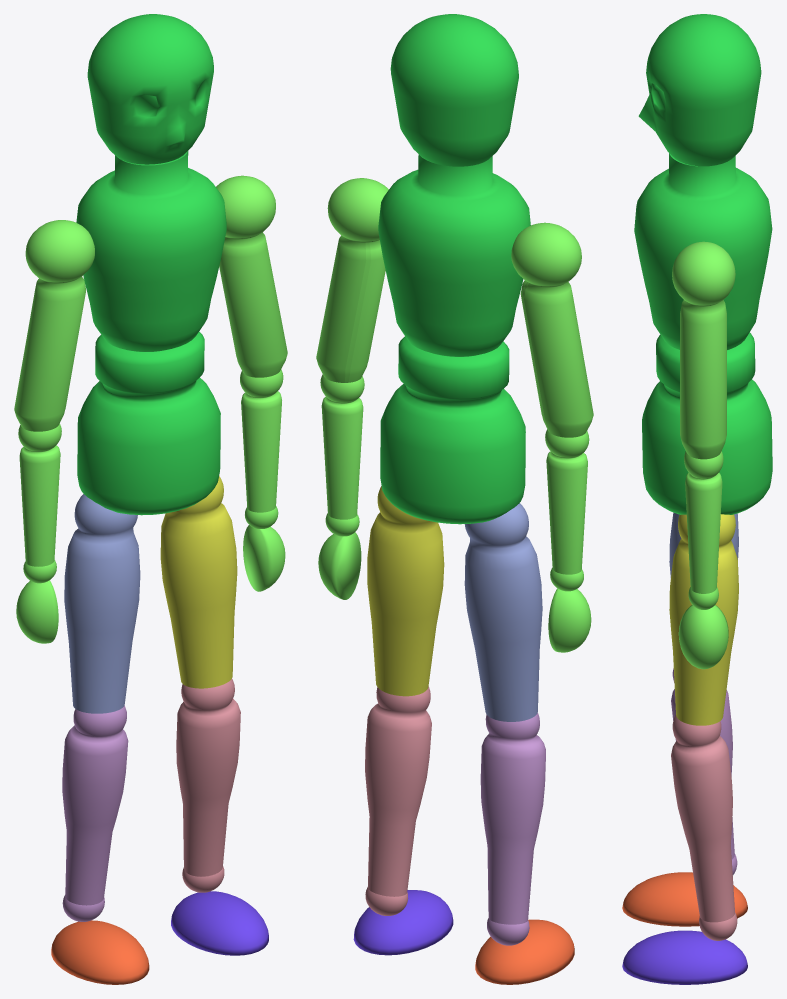
File: mannequin1.fbx
3 views of the same model, side by side, from view 1: azimuth 30°, elevation 25°; view 2: azimuth 150°, elevation 25°; view 3: azimuth 270°, elevation 25° (orthographic).
Parts seen in each view (by area): view 1: spine1_convexhull, pelvis_convexhull, rightArm, leftArm, head_convexhull, rightThigh_convexhull, leftThigh_convexhull, Bip001 R Calf_convexhull, Bip001 L Calf_convexhull, rightFoot_convexhull, leftFoot_convexhull; view 2: spine1_convexhull, pelvis_convexhull, rightArm, leftArm, head_convexhull, rightThigh_convexhull, leftThigh_convexhull, Bip001 R Calf_convexhull, Bip001 L Calf_convexhull, rightFoot_convexhull, leftFoot_convexhull; view 3: leftArm, spine1_convexhull, head_convexhull, pelvis_convexhull, Bip001 L Calf_convexhull, leftThigh_convexhull, leftFoot_convexhull, rightFoot_convexhull, Bip001 R Calf_convexhull, rightThigh_convexhull.
Boxes of the visible parts, x1=… form: spine1_convexhull: x1=76, y1=151, x2=226, y2=351; pelvis_convexhull: x1=77, y1=331, x2=220, y2=515; rightArm: x1=14, y1=220, x2=94, y2=643; leftArm: x1=216, y1=175, x2=287, y2=591; head_convexhull: x1=87, y1=14, x2=213, y2=164; rightThigh_convexhull: x1=64, y1=494, x2=140, y2=713; leftThigh_convexhull: x1=160, y1=476, x2=237, y2=688; Bip001 R Calf_convexhull: x1=62, y1=705, x2=128, y2=921; Bip001 L Calf_convexhull: x1=176, y1=679, x2=240, y2=892; rightFoot_convexhull: x1=51, y1=920, x2=149, y2=984; leftFoot_convexhull: x1=171, y1=891, x2=268, y2=955; spine1_convexhull: x1=378, y1=154, x2=530, y2=356; pelvis_convexhull: x1=380, y1=336, x2=525, y2=524; rightArm: x1=511, y1=222, x2=593, y2=652; leftArm: x1=316, y1=178, x2=388, y2=599; head_convexhull: x1=390, y1=14, x2=518, y2=166; rightThigh_convexhull: x1=464, y1=503, x2=542, y2=721; leftThigh_convexhull: x1=367, y1=486, x2=444, y2=696; Bip001 R Calf_convexhull: x1=480, y1=713, x2=545, y2=945; Bip001 L Calf_convexhull: x1=365, y1=686, x2=431, y2=915; rightFoot_convexhull: x1=475, y1=919, x2=574, y2=984; leftFoot_convexhull: x1=353, y1=890, x2=453, y2=955; leftArm: x1=672, y1=241, x2=735, y2=669; spine1_convexhull: x1=634, y1=153, x2=772, y2=349; head_convexhull: x1=638, y1=14, x2=761, y2=166; pelvis_convexhull: x1=642, y1=332, x2=772, y2=514; Bip001 L Calf_convexhull: x1=671, y1=714, x2=737, y2=940; leftThigh_convexhull: x1=669, y1=514, x2=738, y2=725; leftFoot_convexhull: x1=622, y1=930, x2=747, y2=984; rightFoot_convexhull: x1=622, y1=872, x2=747, y2=926; Bip001 R Calf_convexhull: x1=671, y1=668, x2=737, y2=875; rightThigh_convexhull: x1=669, y1=512, x2=738, y2=578.
Bounding box in the file's own units: 546 × 266 × 1791.
